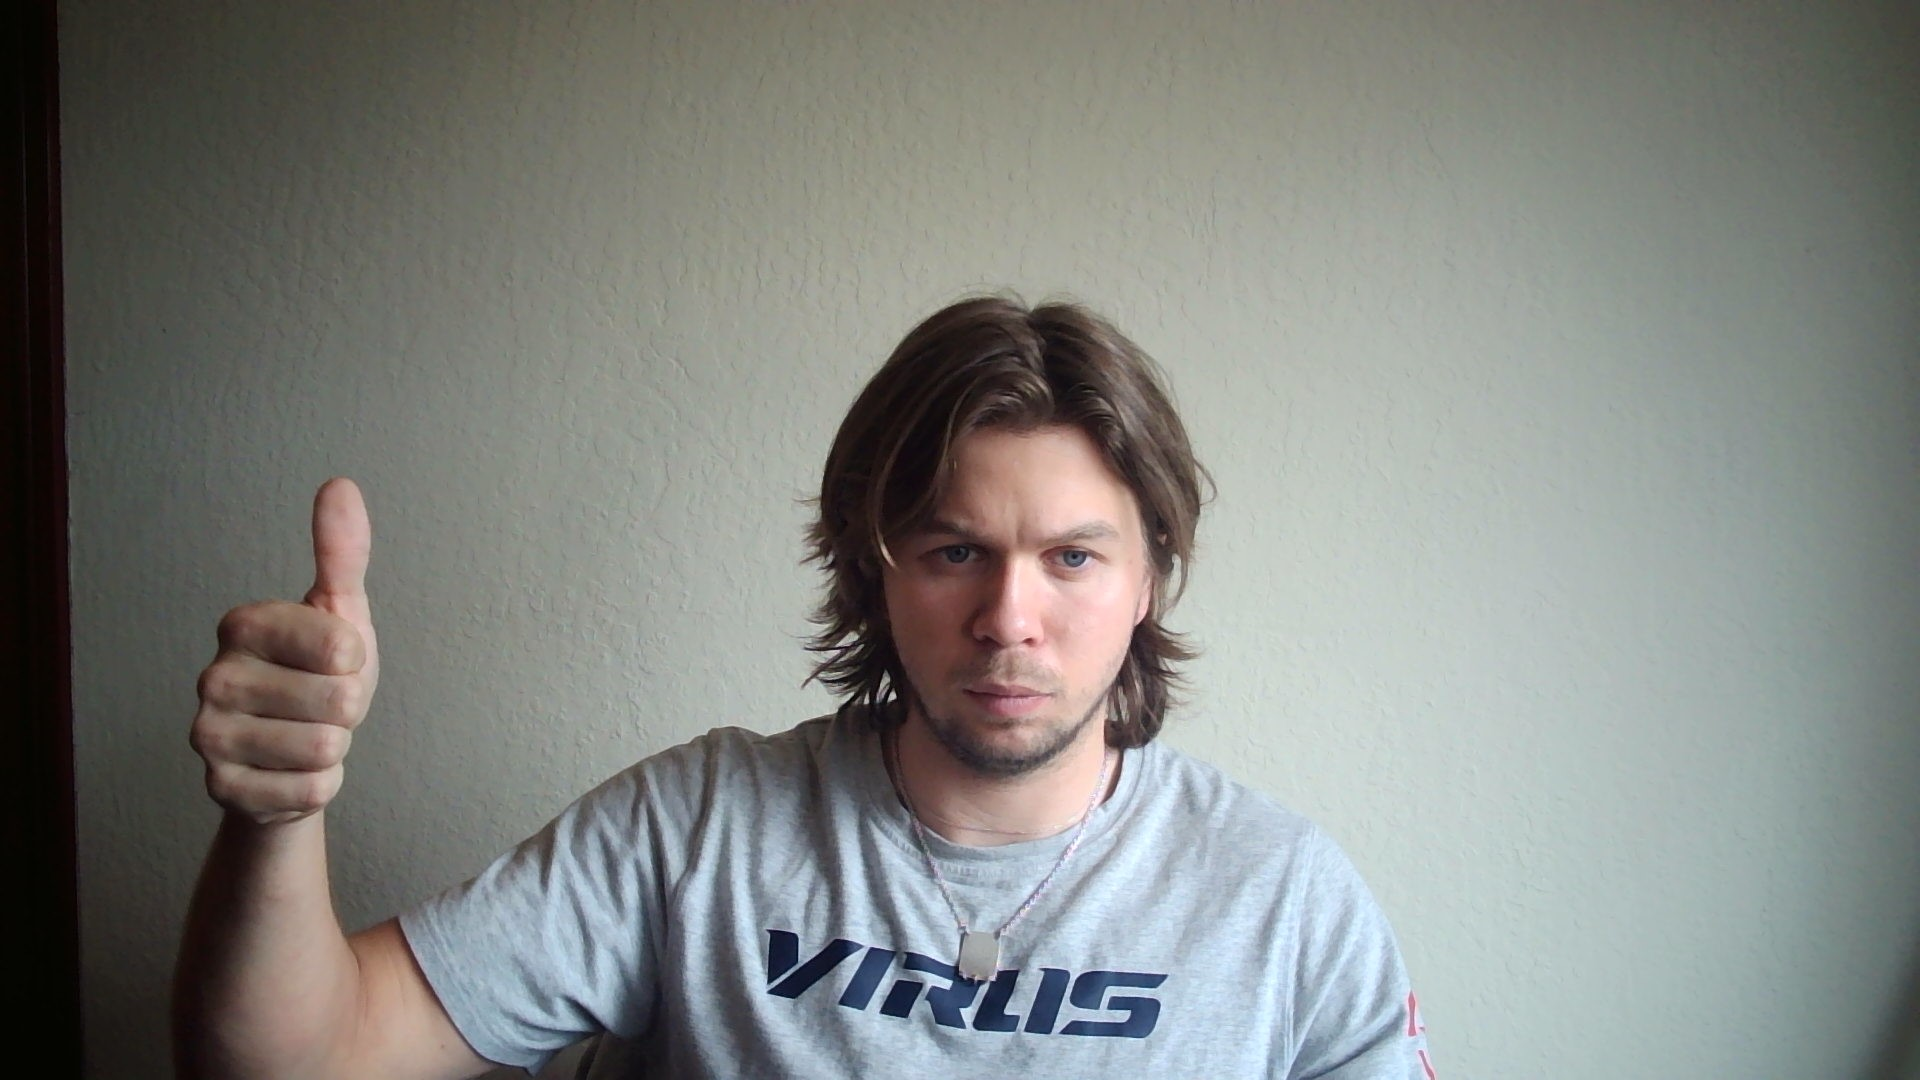good: (190, 477, 381, 827)
